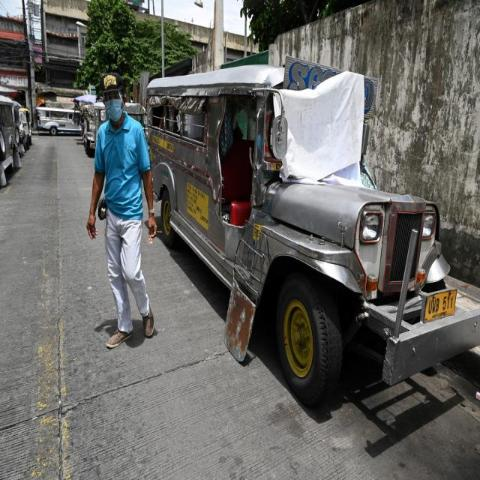jeepney: (136, 66, 480, 434), (34, 93, 88, 147)
